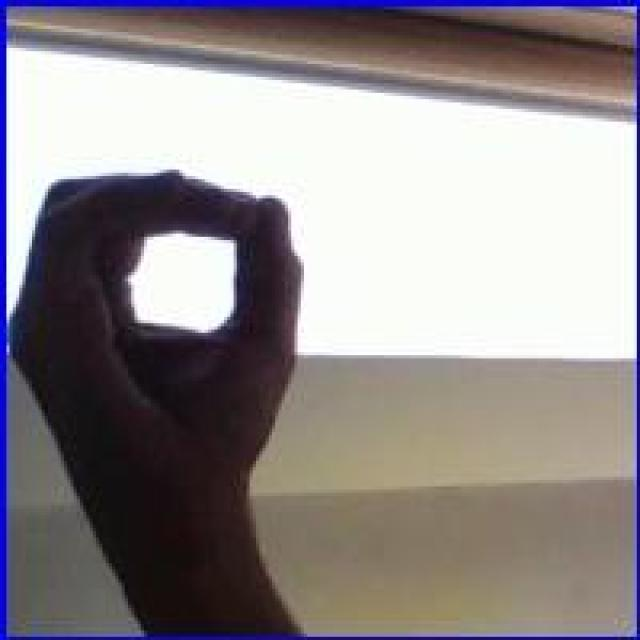O: (14, 155, 309, 501)
